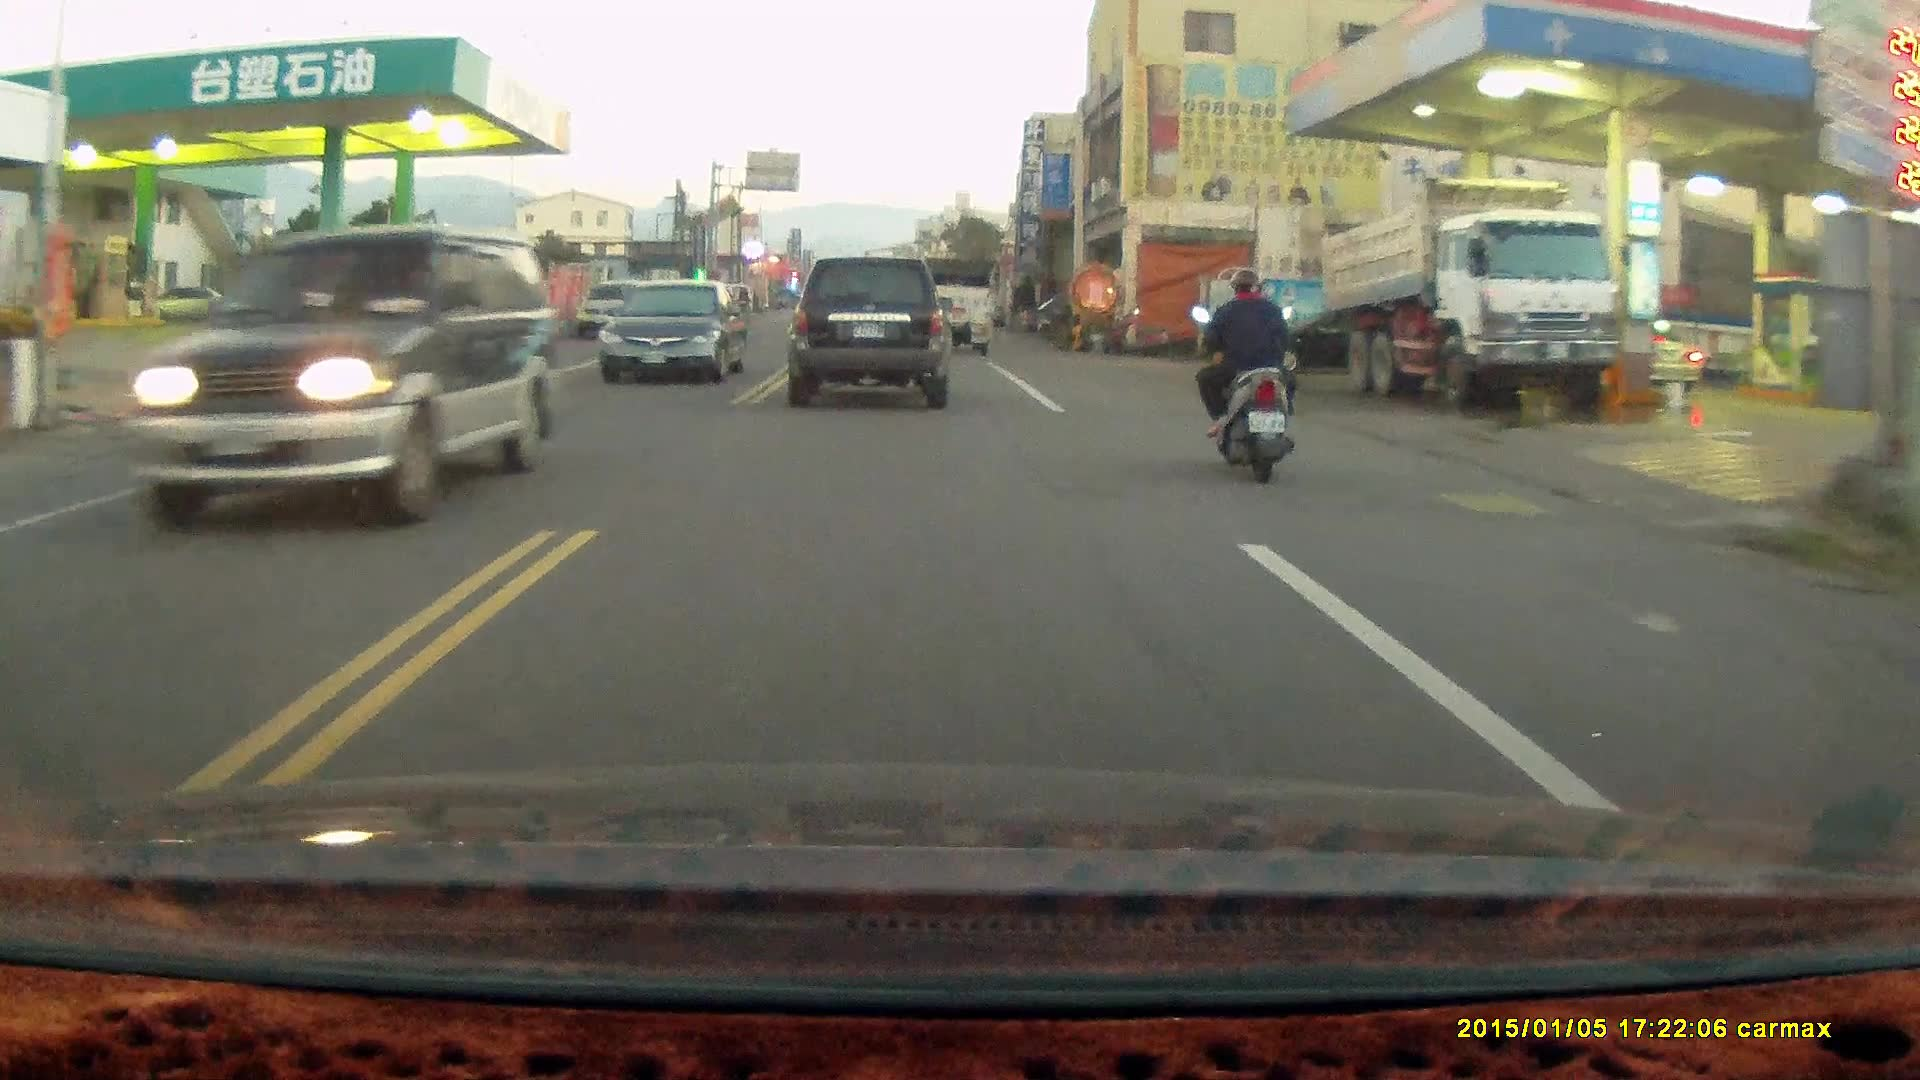rider: (1190, 263, 1298, 484)
vehicle: (118, 231, 566, 536), (1319, 177, 1621, 407), (793, 254, 954, 410), (598, 279, 752, 389), (900, 251, 993, 349)
